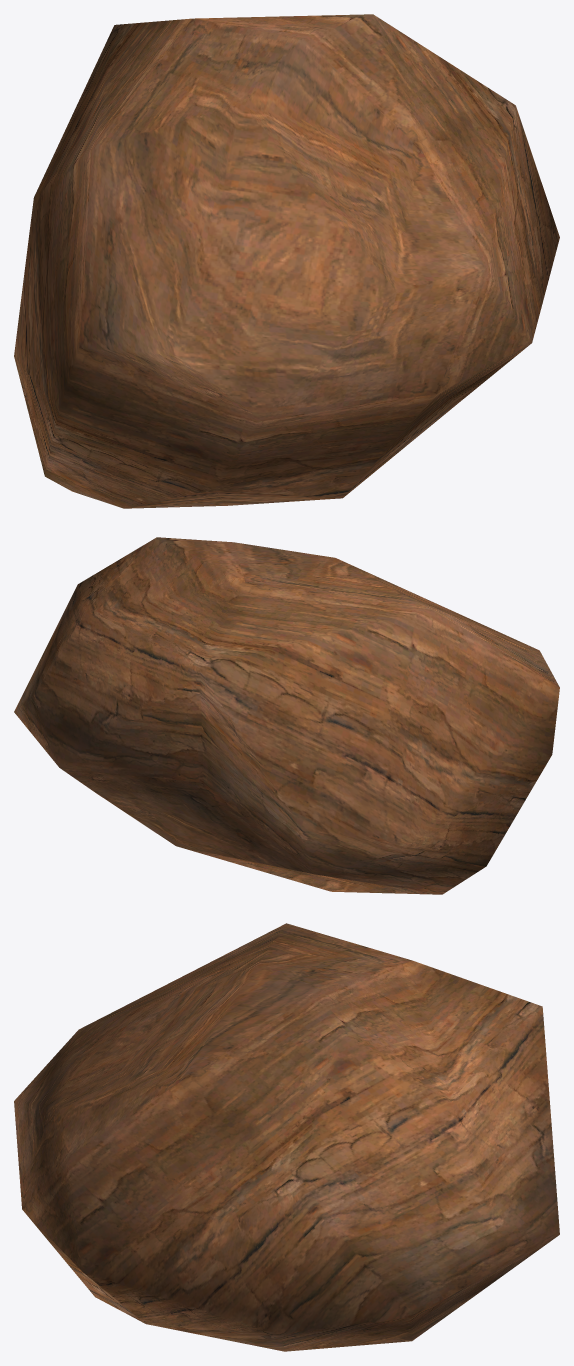
Rendered from rock_tatt_jundland_boulder_a3_l3.fbx.
The picture shows the model from 3 angles, top to bottom: view 1: azimuth 30°, elevation 25°; view 2: azimuth 150°, elevation 25°; view 3: azimuth 270°, elevation 25°; orthographic projection. The views are drawn at different scales.
Parts seen in each view (by area): view 1: mesh_node; view 2: mesh_node; view 3: mesh_node.
Boxes of the visible parts, bbox=[...] form: mesh_node: bbox=[14, 14, 559, 508]; mesh_node: bbox=[14, 537, 559, 894]; mesh_node: bbox=[14, 923, 559, 1351].
Size of the model in its own units: 2.43 by 1.7 by 2.15.
